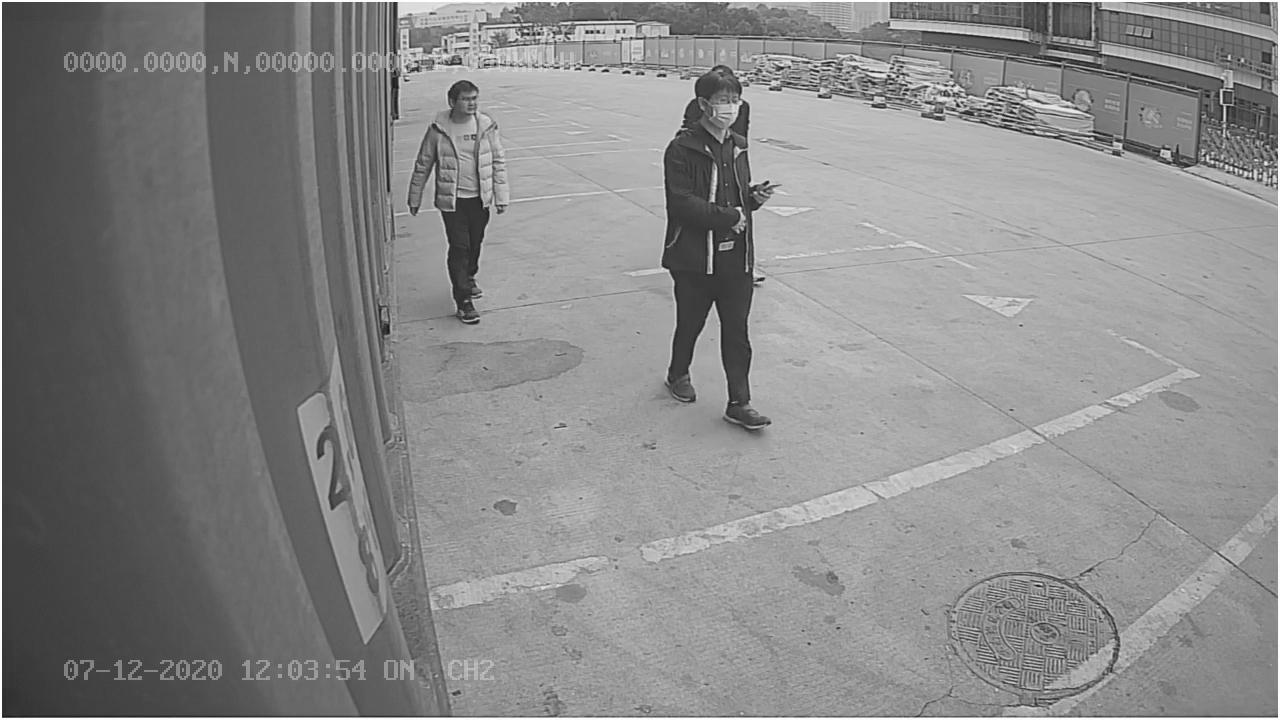person: (408, 77, 510, 328)
